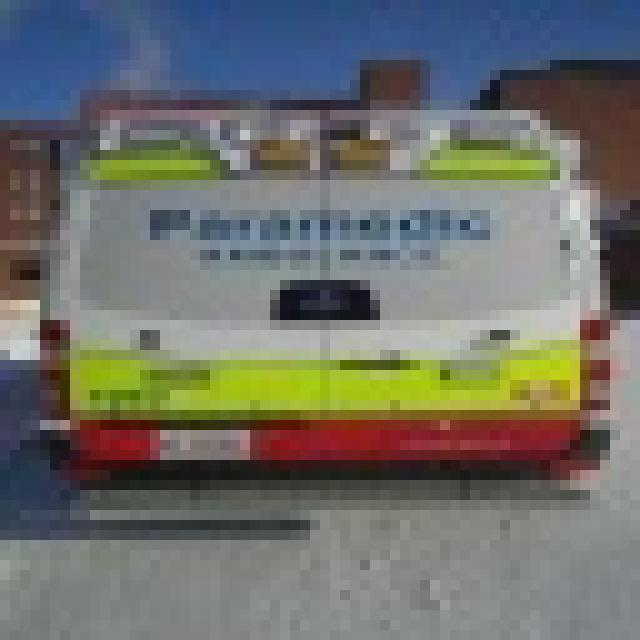Ambulance: (30, 80, 610, 490)
